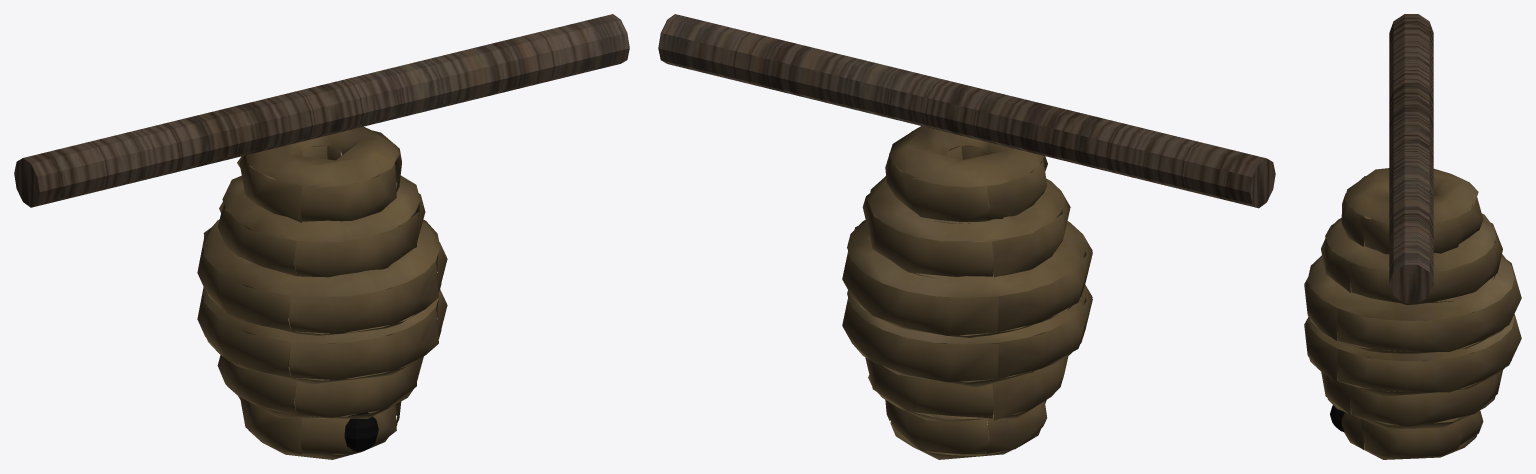
Rendered from NT23_Beehive.glb.
3 renders of one model, left to right at view 1: azimuth 30°, elevation 25°; view 2: azimuth 150°, elevation 25°; view 3: azimuth 270°, elevation 25°, orthographic. The views are drawn at different scales.
Visible parts, largest first — view 1: NT23_Beehive; view 2: NT23_Beehive; view 3: NT23_Beehive.
Part boxes in pixels (x1=…): NT23_Beehive: x1=14, y1=14, x2=629, y2=459; NT23_Beehive: x1=658, y1=14, x2=1275, y2=459; NT23_Beehive: x1=1304, y1=14, x2=1521, y2=459.
Size of the model in its own units: 0.5 by 0.2802 by 0.1833.
Materials: 3 (3 with a texture image).
